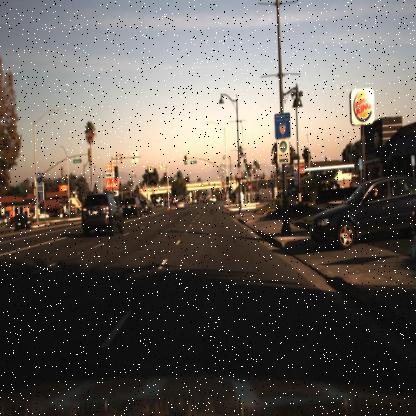car: (310, 175, 415, 252), (79, 190, 123, 236), (118, 196, 142, 222), (140, 194, 152, 218), (15, 214, 31, 230), (140, 196, 151, 215), (174, 195, 186, 210)
trafficLight-Green: (224, 172, 232, 190), (243, 168, 249, 184), (183, 150, 188, 167), (224, 177, 230, 189)
trafficLight-Red: (161, 165, 166, 182)
